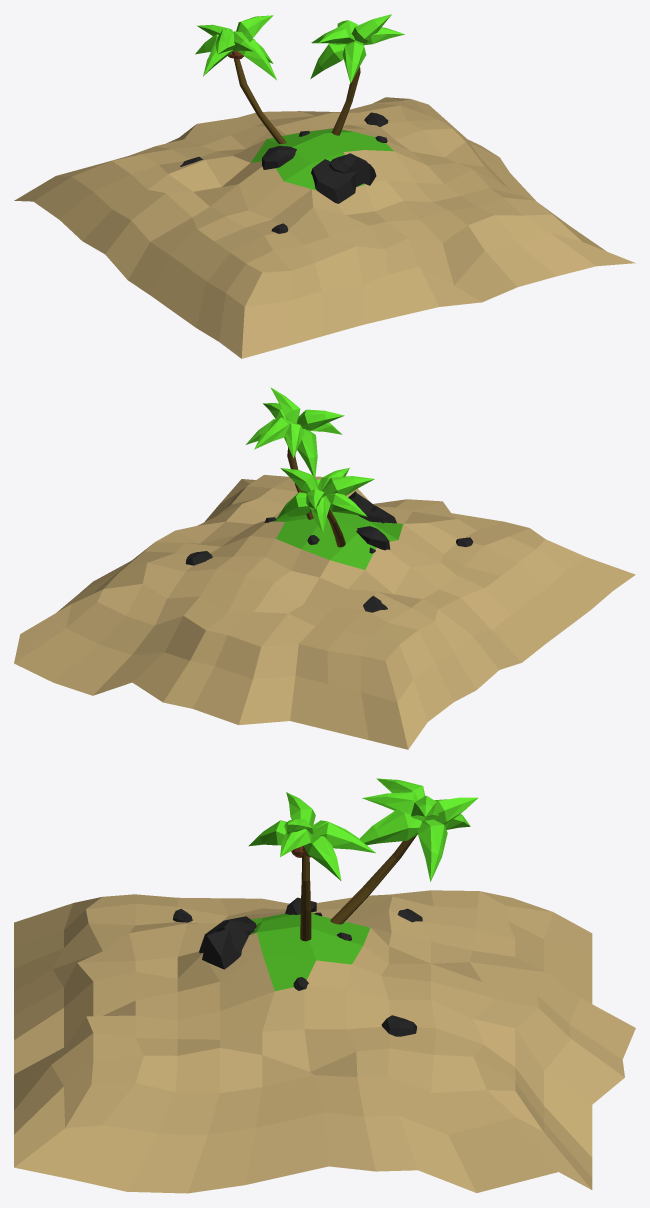
Rendered from Low Poly Island.FBX.
3 views of the same model, one above another, from view 1: azimuth 30°, elevation 25°; view 2: azimuth 150°, elevation 25°; view 3: azimuth 270°, elevation 25° (orthographic). The views are drawn at different scales.
Visible parts, largest first — view 1: Terrain, Palm Tree (×2), Rock (×2); view 2: Terrain, Palm Tree (×2); view 3: Terrain, Palm Tree (×2), Rock.
Boxes of the visible parts, left/top/right/bottom form: Terrain: left=14, top=97, right=635, bottom=358; Palm Tree (×2): left=195, top=14, right=404, bottom=143; Rock (×2): left=262, top=146, right=356, bottom=203; Terrain: left=14, top=475, right=635, bottom=749; Palm Tree (×2): left=246, top=387, right=374, bottom=547; Terrain: left=14, top=890, right=635, bottom=1193; Palm Tree (×2): left=248, top=778, right=478, bottom=941; Rock: left=202, top=928, right=250, bottom=969.
Size of the model in its own units: 639 by 351 by 663.
